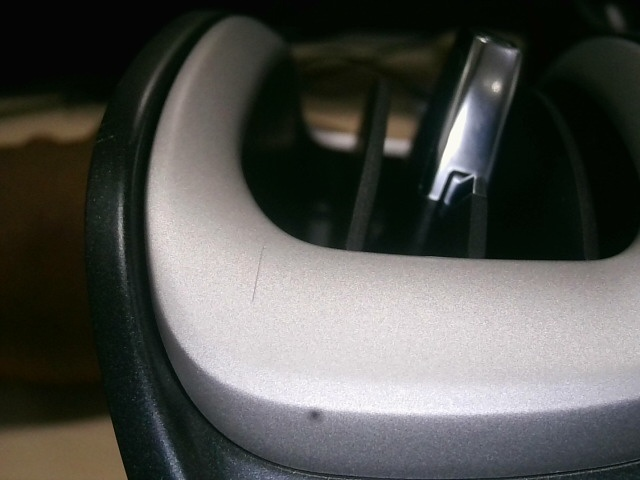NG: (247, 245, 277, 312), (93, 125, 120, 166)
